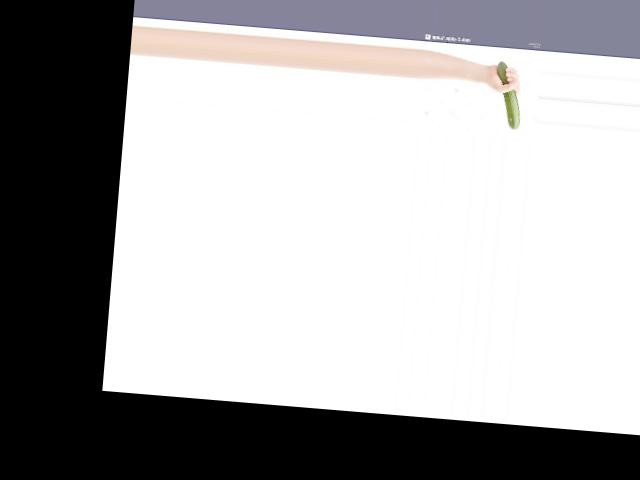cucumber: (494, 61, 525, 129)
